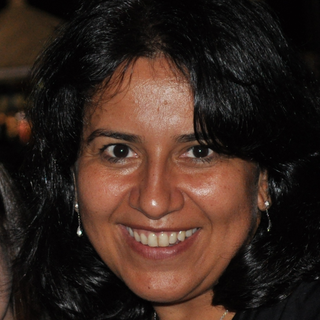eye: (169, 138, 227, 167), (95, 134, 140, 164)
